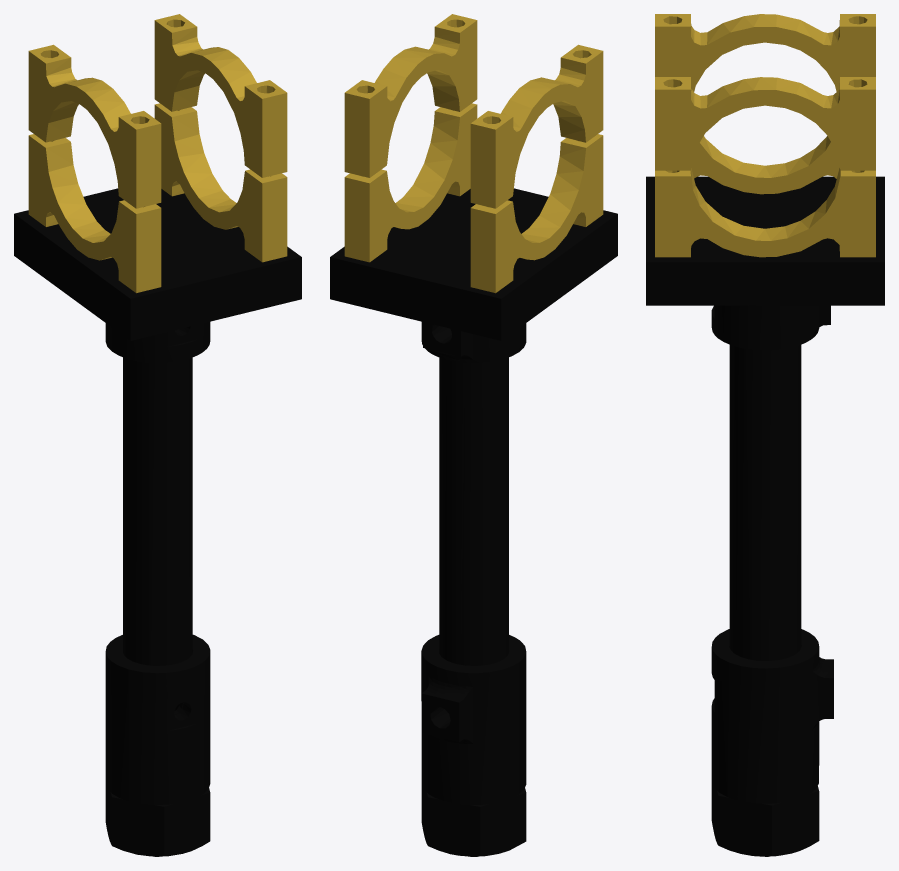
The model's file is end_leg.dae.
3 renders of one model, left to right at view 1: azimuth 30°, elevation 25°; view 2: azimuth 150°, elevation 25°; view 3: azimuth 270°, elevation 25°, orthographic. The views are drawn at different scales.
Visible parts, largest first — view 1: end_leg_black, end_leg_gold; view 2: end_leg_black, end_leg_gold; view 3: end_leg_black, end_leg_gold.
Part boxes in pixels (x1=…): end_leg_black: x1=14, y1=188, x2=301, y2=856; end_leg_gold: x1=28, y1=14, x2=287, y2=293; end_leg_black: x1=330, y1=188, x2=617, y2=856; end_leg_gold: x1=344, y1=14, x2=603, y2=293; end_leg_black: x1=646, y1=176, x2=884, y2=856; end_leg_gold: x1=655, y1=14, x2=875, y2=257.
Size of the model in its own units: 0.034 by 0.04 by 0.1483.
